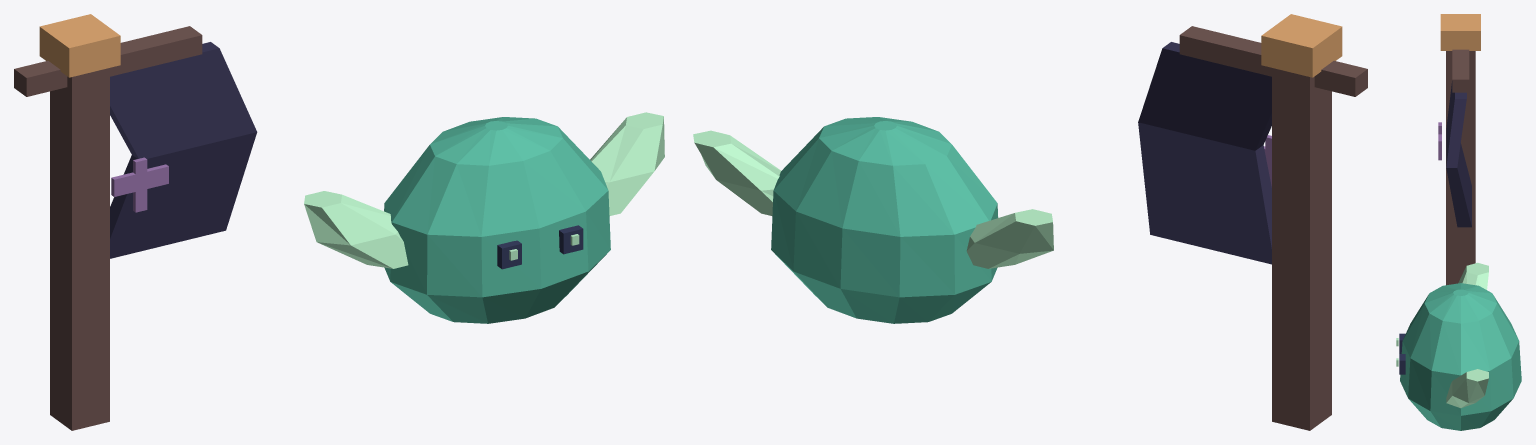
File: mond-night-banner-model.obj
3 views of the same model, side by side, from view 1: azimuth 30°, elevation 25°; view 2: azimuth 150°, elevation 25°; view 3: azimuth 270°, elevation 25° (orthographic). The views are drawn at different scales.
Parts seen in each view (by area): view 1: NightHillProps; view 2: NightHillProps; view 3: NightHillProps.
Boxes of the visible parts, box(x1,y1,x2,y2) form: NightHillProps: box(14, 14, 664, 430); NightHillProps: box(693, 14, 1367, 430); NightHillProps: box(1396, 14, 1521, 430).
Bounding box in the file's own units: 3.96 × 2.23 × 0.969.
